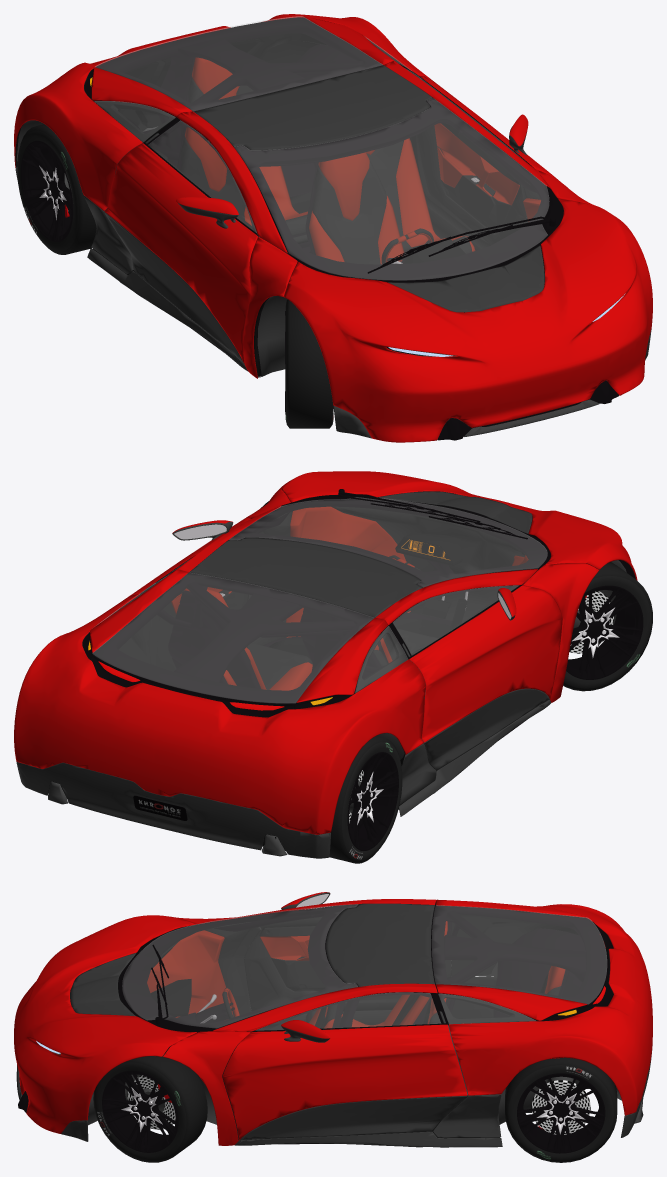
Rendered from aurora.glb.
3 renders of one model, top to bottom at view 1: azimuth 30°, elevation 25°; view 2: azimuth 150°, elevation 25°; view 3: azimuth 270°, elevation 25°, orthographic. The views are drawn at different scales.
Parts seen in each view (by area): view 1: BodyHood, BodyWindshield, BodyRearwindow, BodyDoorRColor1, BodyRearPanelsColor1, BodyRoofPanel, BodyWindshieldGasket, InteriorSeatsColor1, InteriorSeatsColor2, BodyPillars, InteriorPillar, InteriorRearHatch (+21 smaller); view 2: BodyRearPanelsColor1, BodyRearwindow, BodyWindshield, BodyDoorRColor1, BodyPanelsColor2, BodyRoofPanel, BodyHood, InteriorRearHatch, BodyPillars, InteriorPillar, InteriorDashMid, BodyWindshieldGasket (+22 smaller); view 3: BodyRearPanelsColor1, BodyWindshield, BodyDoorLColor1, BodyHood, BodyRearwindow, BodyRoofPanel, BodyPillars, BodyWindshieldGasket, BodyDoorLColor2, BodyPanelsColor2, WheelFrontL, InteriorRearHatch (+25 smaller).
Part boxes in pixels (left/top/right/bottom): BodyHood: left=283, top=198, right=652, bottom=442; BodyWindshield: left=234, top=98, right=549, bottom=280; BodyRearwindow: left=95, top=16, right=382, bottom=110; BodyDoorRColor1: left=104, top=143, right=257, bottom=363; BodyRearPanelsColor1: left=14, top=14, right=428, bottom=210; BodyRoofPanel: left=193, top=65, right=432, bottom=150; BodyWindshieldGasket: left=234, top=99, right=563, bottom=282; InteriorSeatsColor1: left=185, top=57, right=475, bottom=264; InteriorSeatsColor2: left=180, top=78, right=472, bottom=264; BodyPillars: left=176, top=61, right=598, bottom=378; InteriorPillar: left=158, top=37, right=434, bottom=168; InteriorRearHatch: left=93, top=17, right=383, bottom=117; BodyRearPanelsColor1: left=14, top=569, right=425, bottom=834; BodyRearwindow: left=92, top=573, right=373, bottom=703; BodyWindshield: left=229, top=497, right=547, bottom=587; BodyDoorRColor1: left=409, top=585, right=562, bottom=742; BodyPanelsColor2: left=16, top=700, right=550, bottom=858; BodyRoofPanel: left=189, top=537, right=422, bottom=617; BodyHood: left=279, top=471, right=637, bottom=580; InteriorRearHatch: left=93, top=573, right=386, bottom=707; BodyPillars: left=175, top=489, right=599, bottom=702; InteriorPillar: left=174, top=574, right=417, bottom=682; InteriorDashMid: left=331, top=503, right=528, bottom=622; BodyWindshieldGasket: left=230, top=497, right=550, bottom=587; BodyRearPanelsColor1: left=436, top=899, right=652, bottom=1115; BodyWindshield: left=122, top=904, right=357, bottom=1028; BodyDoorLColor1: left=222, top=1024, right=467, bottom=1140; BodyHood: left=14, top=915, right=196, bottom=1133; BodyRearwindow: left=432, top=905, right=606, bottom=1003; BodyRoofPanel: left=326, top=903, right=434, bottom=986; BodyPillars: left=163, top=899, right=437, bottom=1145; BodyWindshieldGasket: left=118, top=905, right=357, bottom=1032; BodyDoorLColor2: left=240, top=1096, right=467, bottom=1140; BodyPanelsColor2: left=16, top=1045, right=652, bottom=1147; WheelFrontL: left=93, top=1054, right=207, bottom=1162; InteriorRearHatch: left=431, top=905, right=606, bottom=1020.
Bounding box in the file's own units: 2.54 × 1.15 × 4.36.
23 materials, 6 textured.
